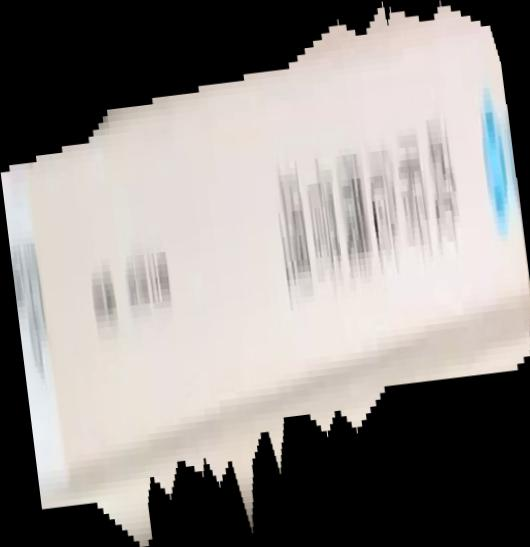flat: (1, 1, 530, 547)
